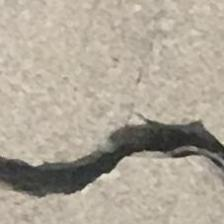Crack: (0, 112, 224, 208)
